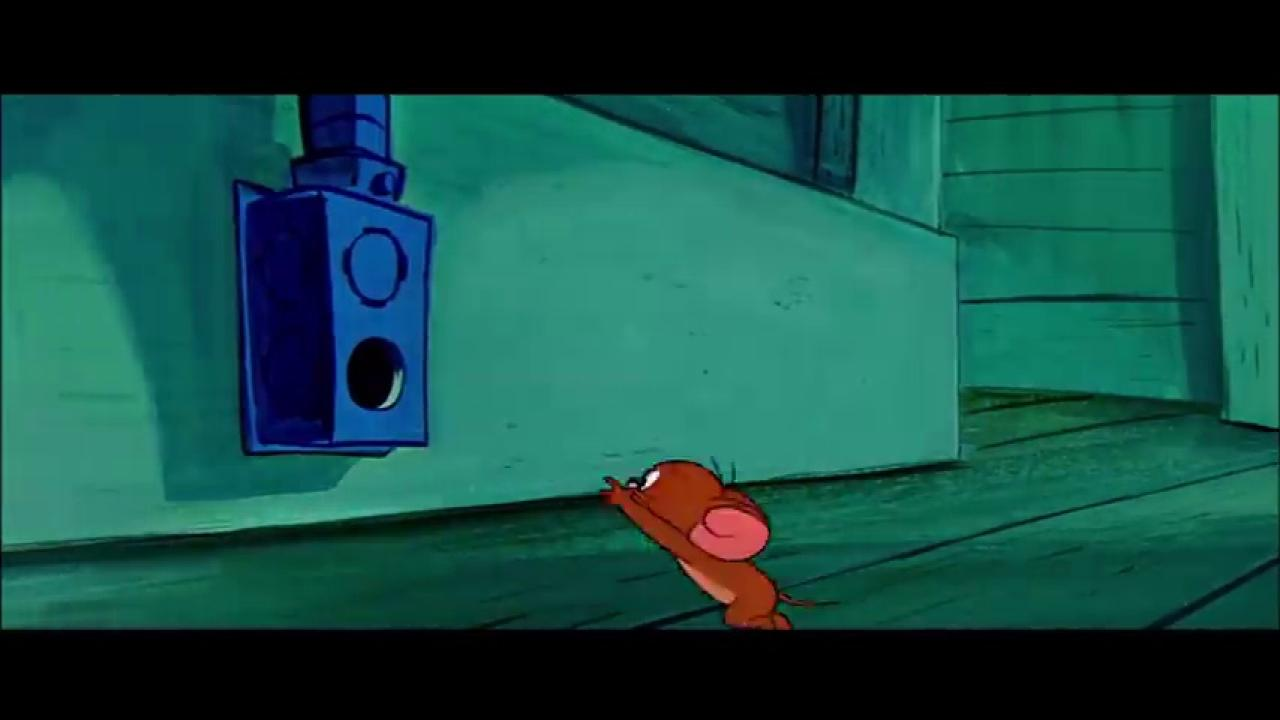Jerry: (598, 456, 844, 630)
